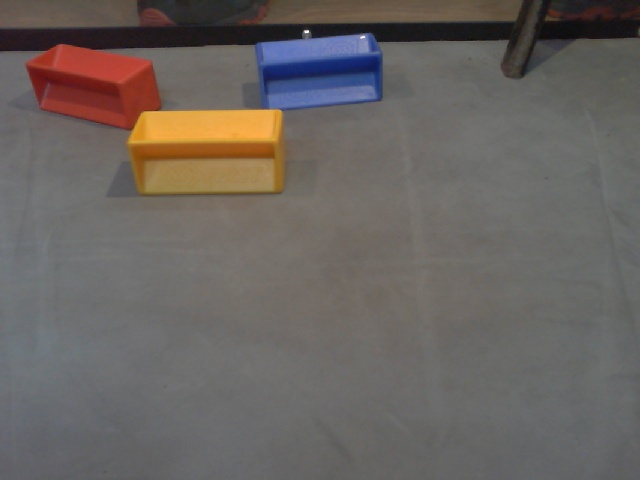BlueSample: (247, 29, 388, 119)
RedSample: (23, 41, 163, 131)
YellowSample: (124, 108, 288, 198)
